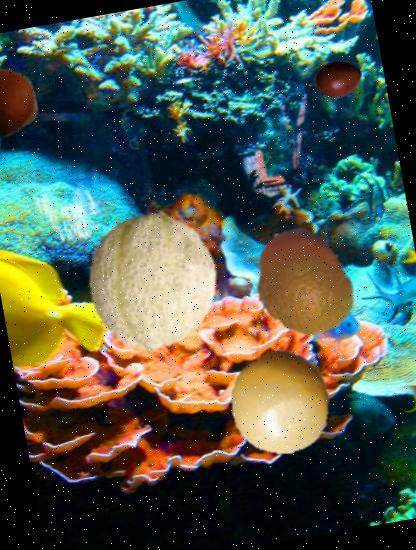Cantaloupe: (71, 199, 233, 361)
Grapefruit: (221, 343, 340, 462)
Mandarine: (237, 218, 368, 348)
Nut: (0, 59, 47, 145)
Tamarillo: (305, 49, 366, 110)
